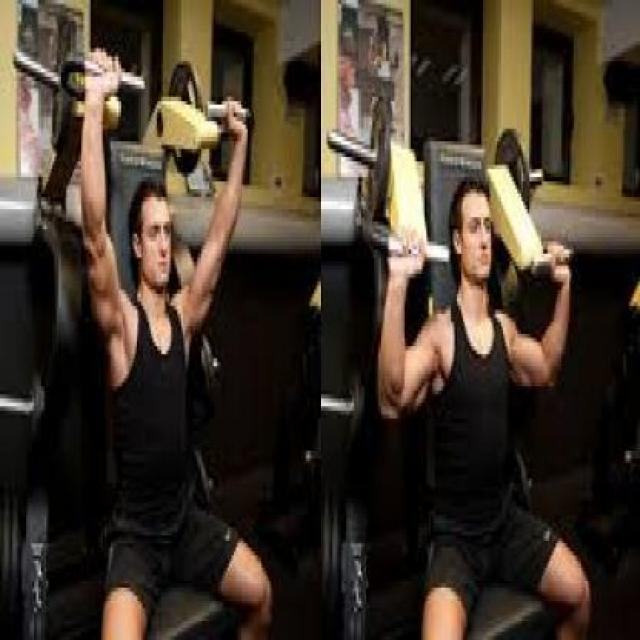shoulder press machine: (8, 17, 278, 640), (323, 94, 606, 640)
